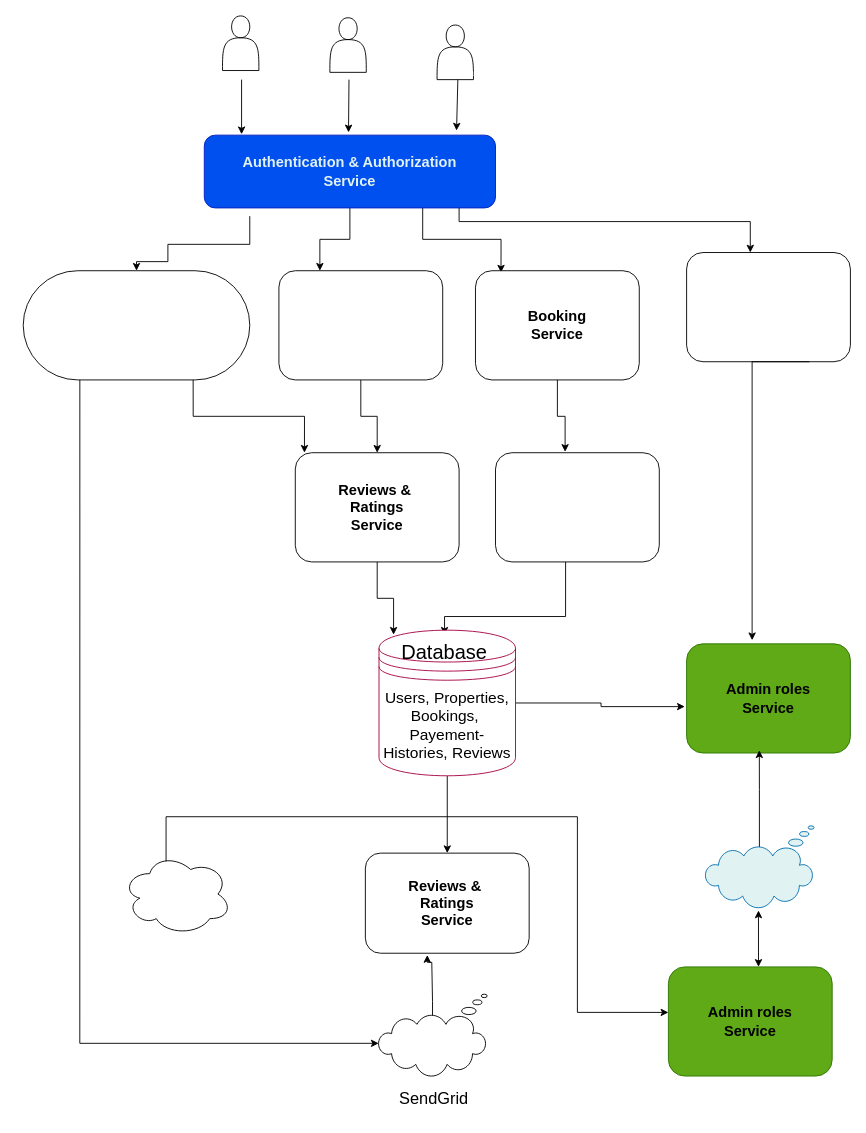
The diagram is 866 pixels wide and 1133 high, and some of its shapes have lost their labels. Each missing label, with the centre of its shape:
"AWS S3 / Cloudinary" goes at point 176,893.
"Notifications Service" goes at point 768,307.
"Payment Service" goes at point 577,507.
"Search & Filtering Properties Service" goes at point 360,325.
"User Management Service" goes at point 136,325.
